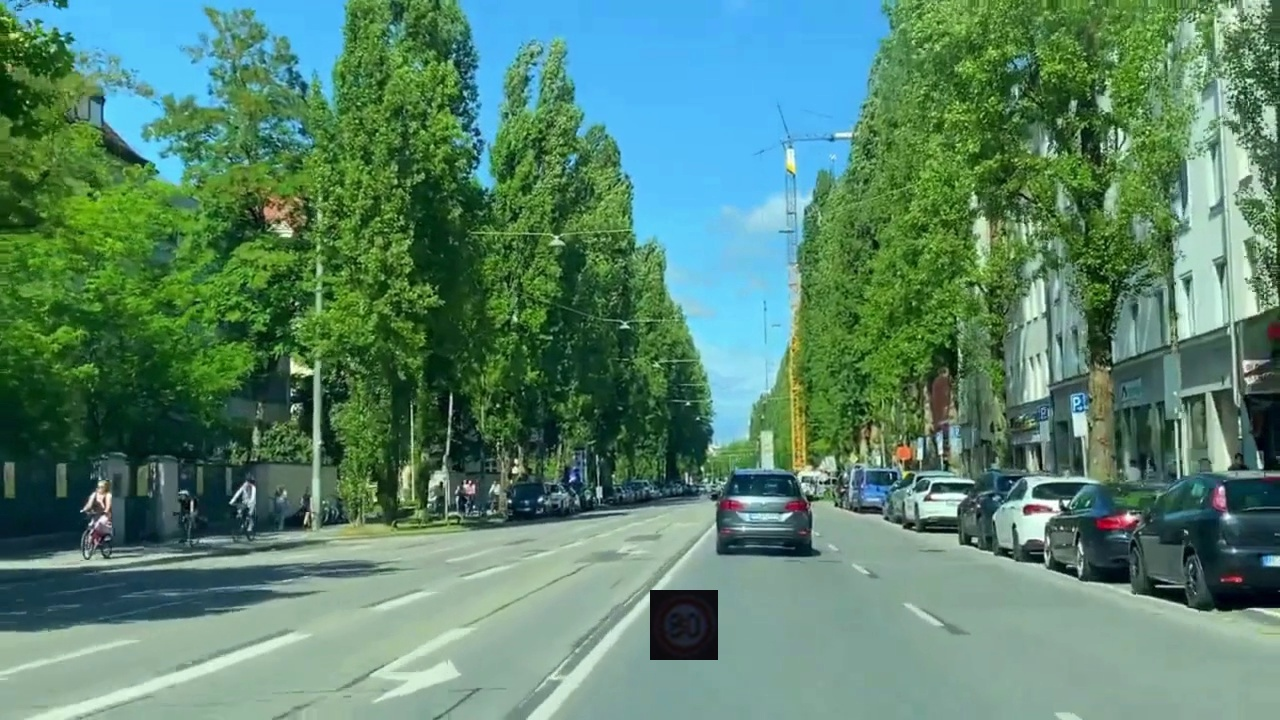Speed 80: (650, 590, 718, 660)
